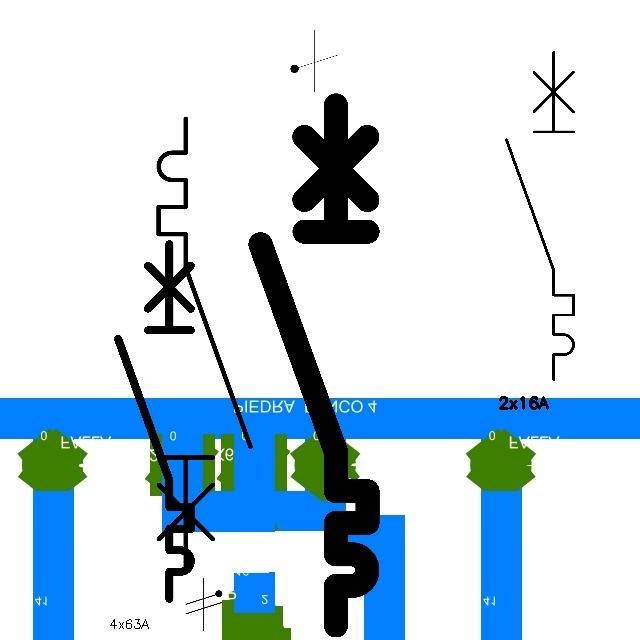interruptor_termomagnetico: (247, 91, 381, 638), (147, 107, 262, 578), (109, 235, 200, 608), (498, 44, 582, 388)
